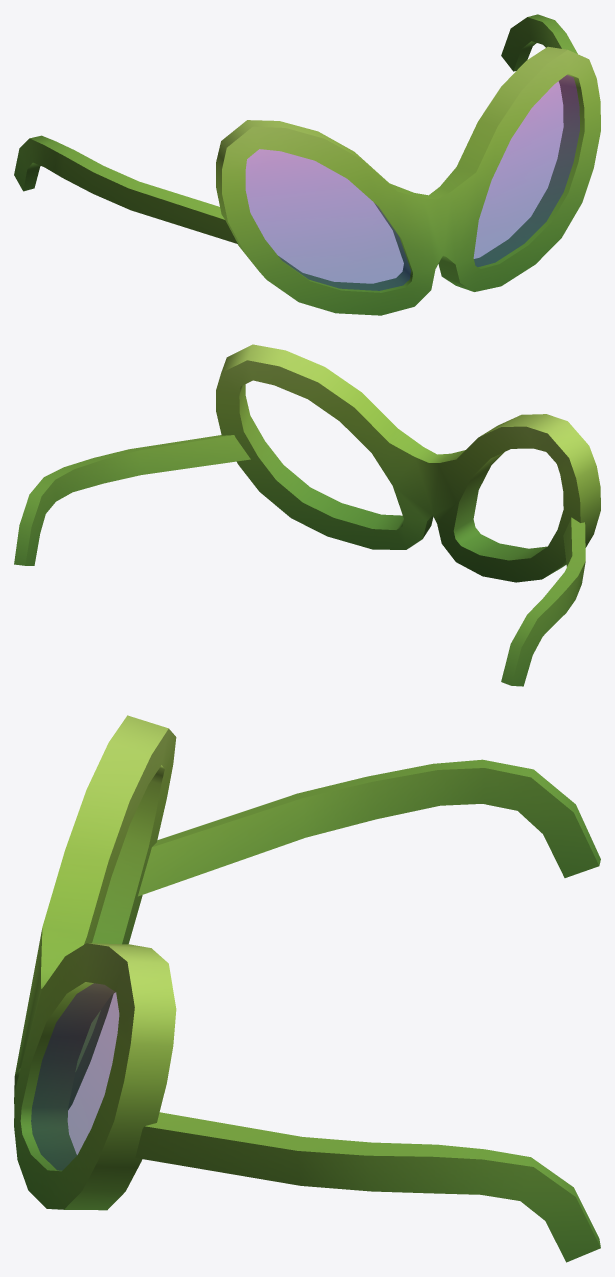
The model's file is Glasses_12.glb.
The picture shows the model from 3 angles, top to bottom: view 1: azimuth 30°, elevation 25°; view 2: azimuth 150°, elevation 25°; view 3: azimuth 270°, elevation 25°; orthographic projection. The views are drawn at different scales.
Visible parts, largest first — view 1: Glasses_12; view 2: Glasses_12; view 3: Glasses_12.
Boxes of the visible parts, x1=… form: Glasses_12: x1=14, y1=14, x2=600, y2=315; Glasses_12: x1=14, y1=344, x2=600, y2=686; Glasses_12: x1=14, y1=715, x2=600, y2=1262.
Bounding box in the file's own units: 0.6065 × 0.2185 × 0.3763.
Materials: 2 (2 with a texture image).
